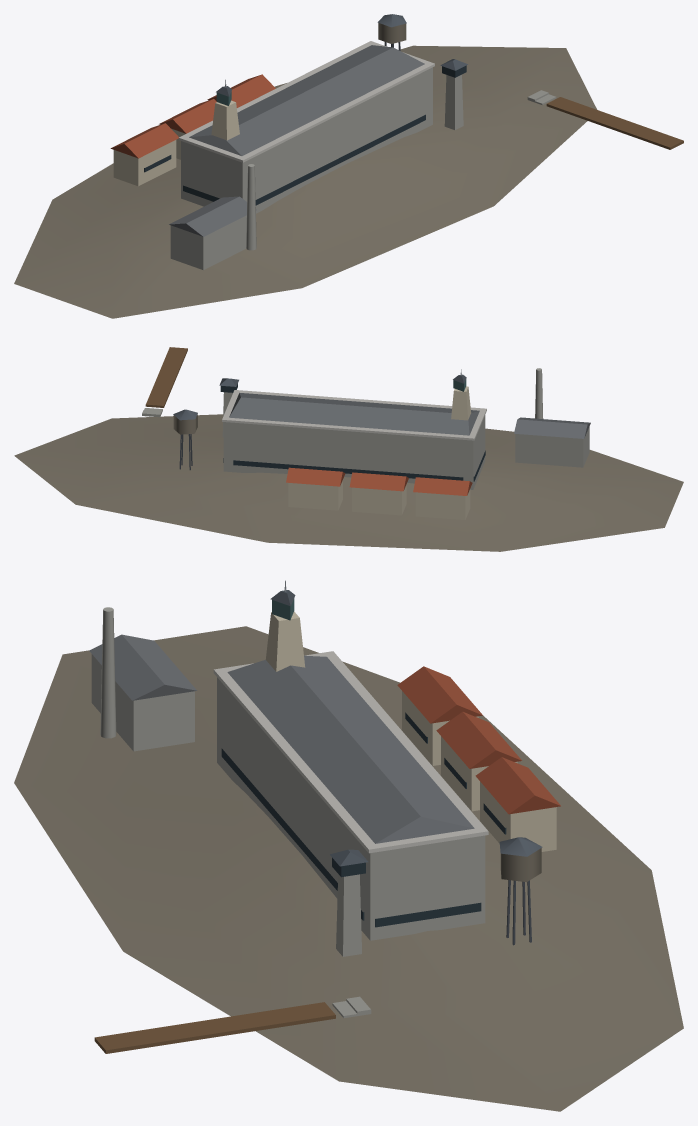
The model's file is mobile-low.glb.
3 views of the same model, one above another, from view 1: azimuth 30°, elevation 25°; view 2: azimuth 150°, elevation 25°; view 3: azimuth 270°, elevation 25° (orthographic). The views are drawn at different scales.
Parts seen in each view (by area): view 1: lm.alcatraz; view 2: lm.alcatraz; view 3: lm.alcatraz.
Part boxes in pixels (<box>): lm.alcatraz: <box>14,14,683,318</box>; lm.alcatraz: <box>14,347,683,551</box>; lm.alcatraz: <box>14,580,683,1111</box>.
Size of the model in its own units: 282 by 57.4 by 164.
